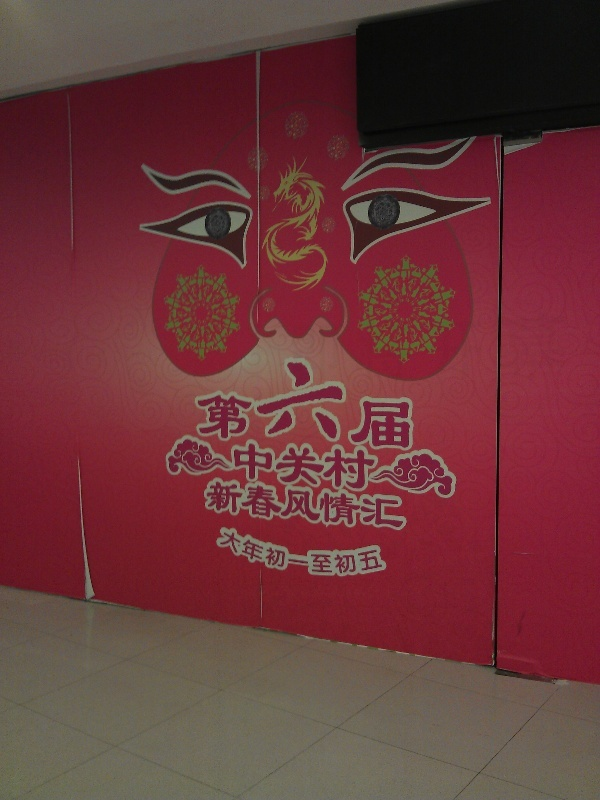text: (209, 356, 224, 450), (225, 356, 240, 450), (241, 356, 256, 450), (257, 356, 272, 450), (273, 356, 288, 450), (289, 356, 304, 450), (305, 356, 320, 450), (321, 356, 336, 450), (337, 356, 352, 450), (353, 356, 368, 450), (369, 356, 384, 450), (385, 356, 400, 450), (401, 356, 416, 450), (209, 477, 224, 534), (225, 477, 240, 534), (241, 477, 256, 534), (257, 477, 272, 534), (273, 477, 288, 534), (289, 477, 304, 534), (305, 477, 320, 534), (321, 477, 336, 534), (337, 477, 352, 534), (353, 477, 368, 534), (369, 477, 384, 534), (385, 477, 400, 534), (225, 528, 240, 582), (241, 528, 256, 582), (257, 528, 272, 582), (273, 528, 288, 582), (289, 528, 304, 582), (305, 528, 320, 582), (321, 528, 336, 582), (337, 528, 352, 582), (353, 528, 368, 582), (369, 528, 384, 582), (200, 356, 208, 450), (241, 442, 256, 491), (257, 442, 272, 491), (273, 442, 288, 491), (289, 442, 304, 491), (305, 442, 320, 491), (321, 442, 336, 491), (337, 442, 352, 491), (353, 442, 368, 491), (401, 477, 409, 534), (234, 442, 240, 491), (369, 442, 375, 491), (221, 528, 224, 582), (385, 528, 388, 582), (206, 477, 208, 534)
